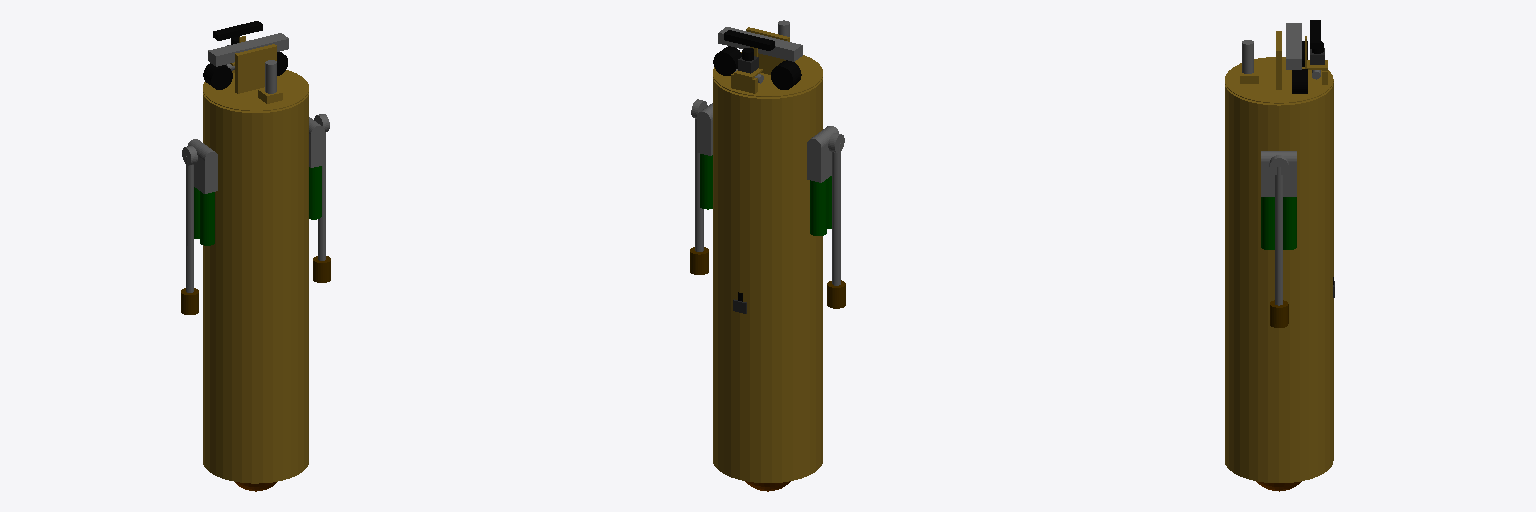
URDF robot description (ballbot):
<?xml version="1.0"?>
<robot name="ballbot">  

  <!-- Links -->

<!-- Point contact with the floor aligned with odom frame-->
  <link name="base_link" />      

<!-- Ball (center of sphere)-->
  <link name="ball_link">      
     <visual>
      <origin xyz="0 0 0" rpy="0 0 0" />
      <geometry>
        <sphere radius="0.105"/>
      </geometry>
      <material name="orange">
	<color rgba=".4 .2 0 .8"/>
      </material>
    </visual>
  </link>
  <joint name="base_to_ball" type="fixed">    
    <origin xyz="0 0 0.105" rpy="0 0 0" />
    <parent link="base_link" />
    <child link="ball_link" />
  </joint>


  <!-- ball to body: xAngle: + make X motion, then yAngle, then yaw -->
  <joint name="xAngle" type="revolute">    
    <axis xyz="0 1 0" />
    <limit effort="1000.0" lower="-0.5" upper="0.5" velocity="1"/>
    <origin xyz="0 0 0" rpy="0 0 0" />
    <parent link="ball_link" />
    <child link="xAngle_to_yAngle" />
  </joint>

  <link name="xAngle_to_yAngle"/>

  <joint name="yAngle" type="revolute">    
    <axis xyz="-1 0 0" />
    <limit effort="1000.0" lower="-0.5" upper="0.5" velocity="1"/>
    <origin xyz="0 0 0" rpy="0 0 0" />
    <parent link="xAngle_to_yAngle" />
    <child link="yAngle_to_bodyYaw" />
  </joint>

  <link name="yAngle_to_bodyYaw"/>

  <joint name="yaw" type="revolute">    
    <axis xyz="0 0 1" />
    <limit effort="1000.0" lower="-0.5" upper="0.5" velocity="1"/>
    <origin xyz="0 0 0" rpy="0 0 0" />
    <parent link="yAngle_to_bodyYaw" />
    <child link="body" />
  </joint>


<!-- Body (origin is at center of ball)-->
  <link name="body">      
     <visual>
      <origin xyz="0 0 .7025" rpy="0 0 0" />
      <geometry>
        <cylinder length="1.405" radius="0.184"/>
      </geometry>
      <material name="gold">
	<color rgba="0.5 0.4 .13 0.7"/>
      </material>
    </visual>
  </link>


  <!-- Top of the body -->
  <link name="body_top"/>
  <joint name="top_of_body" type="fixed">    
    <origin xyz="0 0 1.405" rpy="0 0 0" />
    <parent link="body" />
    <child link="body_top" />
  </joint>

<!-- Fake laser for AMCL/Gmapping (doesn't roll or pitch) -->
  <link name="base_laser"/>
  <joint name="base_laser_joint" type="fixed">    
    <origin xyz="0 .165 0.775" rpy="0 0 1.571" />
    <parent link="base_link" />
    <child link="base_laser" />
  </joint>

<!-- Body Laser (origin at optical center)-->
  <link name="laser">
    <visual> <!-- barrel -->
      <origin xyz="0 0 0" rpy="0 0 0"/>
      <geometry>
        <cylinder length=".03" radius="0.02"/>
      </geometry>
      <material name="grey">
	<color rgba="0.05 0.05 0.05 1"/>
      </material>
    </visual>
  </link>
  <joint name="real_laser_joint" type="fixed">    
    <origin xyz="0 .165 0.67" rpy="0 0 1.571" />
    <parent link="body" />
    <child link="laser" />
  </joint>
  <link name="laser_box">
    <visual> <!-- case -->
      <origin xyz="0 0 -.035" rpy="0 0 0"/>
      <geometry>
        <box size=".05 .05 .04"/>
      </geometry>
      <material name="light_grey">
	<color rgba="0.2 0.2 0.2 1"/>
      </material>
    </visual>
  </link>
  <joint name="laser_bottom" type="fixed">    
    <origin xyz="0 0 0" rpy="0 0 0" />
    <parent link="laser" />
    <child link="laser_box" />
  </joint>



<!-- TURRET -->

<!-- turret plate -->
  <link name="turret">
    <visual> <!-- main turret plate visual -->
      <origin xyz="0 0 -0.0015" rpy="0 0 0" />
      <geometry>
        <cylinder length="0.003" radius="0.184"/>
      </geometry>
      <material name="gold"/>
    </visual>
  </link>
  <joint name="turret_pan" type="revolute">    <!-- X axis of turret points forward (REP 103) -->
    <axis xyz="0 0 1" />
    <limit effort="1000.0" lower="-6.1" upper="6.1" velocity="1"/>
    <origin xyz="0 0 0.01" rpy="0 0 1.571" />
    <parent link="body_top" />
    <child link="turret" />
  </joint>
<!-- Turret Plate Visuals -->
  <link name="pan_motor_guard">
    <visual>
      <origin xyz="-0.10 0 .015" rpy="0 0 0" />
      <geometry>
        <box size=".065 .065 .03"/>
      </geometry>
      <material name="gold"/>
    </visual>
  </link>
  <joint name="turret_pmg" type="fixed">
    <parent link="turret" />
    <child link="pan_motor_guard" />
  </joint>
  <link name="pan_motor">
    <visual>
      <origin xyz="-0.105 0 .07" rpy="0 0 0" />
      <geometry>
        <cylinder length="0.14" radius="0.02"/>
      </geometry>
      <material name="silver">
	<color rgba=".4 .4 .4 1"/>
      </material>
    </visual>
  </link>
  <joint name="turret_pm" type="fixed">
    <parent link="turret" />
    <child link="pan_motor" />
  </joint>
  <link name="hook_box">
    <visual>
      <origin xyz="0 0 .0725" rpy="0 0 0" />
      <geometry>
        <box size=".02 .158 .145"/>
      </geometry>
      <material name="gold"/>
    </visual>
  </link>
  <joint name="turret_hb" type="fixed">
    <parent link="turret" />
    <child link="hook_box" />
  </joint>
  <link name="tilt_motor">
    <visual>
      <origin xyz=".125 0 .0381" rpy="1.571 0 0" />
      <geometry>
        <cylinder length="0.095" radius="0.015"/>
      </geometry>
      <material name="silver"/>
    </visual>
  </link>
  <joint name="turret_tm" type="fixed">
    <parent link="turret" />
    <child link="tilt_motor" />
  </joint>
  <link name="tilt_block">
    <visual>
      <origin xyz=".155 0 .025" rpy="0 0 0" />
      <geometry>
        <box size=".02 .09 .05"/>
      </geometry>
      <material name="gold"/>
    </visual>
  </link>
  <joint name="turret_tb" type="fixed">
    <parent link="turret" />
    <child link="tilt_block" />
  </joint>
<!-- Acoustic Magic -->
  <link name="array_mic">
    <visual>
      <origin xyz="0 0 0" rpy="0 0 0" />
      <geometry>
        <box size=".055 .29 .04"/>
      </geometry>
      <material name="silver"/>
    </visual>
  </link>
  <joint name="turret_mic" type="fixed">
    <origin xyz=".05 0 .125" rpy="0 0 0" />
    <parent link="turret" />
    <child link="array_mic" />
  </joint>
<!-- Right Eye Speaker -->
  <link name="right_speaker">
    <visual>
      <origin xyz="0 0 0" rpy="0 1.571 0" />
      <geometry>
        <cylinder length="0.055" radius="0.043"/>
      </geometry>
      <material name="grey"/>
    </visual>
  </link>
  <joint name="turret_right_speaker" type="fixed">
    <origin xyz=".07 -.11 .045" rpy="0 0 0" />
    <parent link="turret" />
    <child link="right_speaker" />
  </joint>
<!-- Left Eye Speaker -->
  <link name="left_speaker">
    <visual>
      <origin xyz="0 0 0" rpy="0 1.571 0" />
      <geometry>
        <cylinder length="0.055" radius="0.043"/>
      </geometry>
      <material name="grey"/>
    </visual>
  </link>
  <joint name="turret_left_speaker" type="fixed">
    <origin xyz=".07 .11 .045" rpy="0 0 0" />
    <parent link="turret" />
    <child link="left_speaker" />
  </joint>
<!-- fixed tilt (for interactive markers) -->
  <link name="fixed_tilt"/>
  <joint name="im_tilt_joint" type="fixed">
    <origin xyz=".155 0 0.0381" rpy="0 0 0" />
    <parent link="turret" />
    <child link="fixed_tilt" />
  </joint>
<!-- turret tilt -->
  <link name="tilt">
    <visual>
      <origin xyz="0 0 0.0025" rpy="0 0 0" />
      <geometry>
        <box size=".02 .07 .025"/>
      </geometry>
      <material name="gold"/>
    </visual>
  </link>
  <joint name="turret_tilt" type="revolute">
    <axis xyz="0 1 0" />
    <limit effort="1000.0" lower="-0.05" upper="1.571" velocity="1"/>
    <origin xyz=".155 0 0.0381" rpy="0 0 0" />
    <parent link="turret" />
    <child link="tilt" />
  </joint>
<!-- Tilt Plate -->
  <link name="tilt_plate">
    <visual>
      <origin xyz="-.025 0 0.018" rpy="0 0 0" />
      <geometry>
        <box size=".07 .07 .006"/>
      </geometry>
      <material name="gold"/>
    </visual>
  </link>
  <joint name="tilt_p" type="fixed">
    <origin xyz="0 0 0" rpy="0 0 0" />
    <parent link="tilt" />
    <child link="tilt_plate" />
  </joint>
<!-- Tilt Back Plate -->
  <link name="tilt_back_plate">
    <visual>
      <origin xyz="-.0632 0 0.06" rpy="0 0 0" />
      <geometry>
        <box size=".0064 .025 .12"/>
      </geometry>
      <material name="gold"/>
    </visual>
  </link>
  <joint name="tilt_b" type="fixed">
    <origin xyz="0 0 0" rpy="0 0 0" />
    <parent link="tilt" />
    <child link="tilt_back_plate" />
  </joint>
<!-- Asus Xtion -->
  <link name="openni_camera_link">
    <visual>
      <origin xyz="0 0 0" rpy="0 0 0" />
      <geometry>
        <box size=".036 .178 .023"/>
      </geometry>
      <material name="grey"/>
    </visual>
  </link>
  <joint name="xtion_joint" type="fixed">    
    <origin xyz="-.0324 0 .1295" rpy="0 0 0" />
    <parent link="tilt" />
    <child link="openni_camera_link"/>
  </joint>
  <!-- openni_camera  FRAME
  <link name="openni_depth_frame"/>
  <joint name="xtion_depth_joint" type="fixed">    
    <origin xyz="0 0 0" rpy="0 0 1.571" />
    <parent link="openni_rgb_optical_frame" />
    <child link="openni_depth_frame"/>
  </joint>
  -->
<!-- Tilt Laser (origin at beam)-->
  <link name="tilt_laser">
    <visual> <!-- barrel -->
      <origin xyz="0 0 0" rpy="0 0 0"/>
      <geometry>
        <cylinder length=".03" radius="0.02"/>
      </geometry>
      <material name="grey"/>
    </visual>
  </link>
  <joint name="tilt_laser_joint" type="fixed">    
    <origin xyz="-0.025 0 0.0824" rpy="0 0 0" />
    <parent link="tilt" />
    <child link="tilt_laser" />
  </joint>
  <link name="tilt_laser_box">
    <visual> <!-- case -->
      <origin xyz="0 0 -.035" rpy="0 0 0"/>
      <geometry>
        <box size=".05 .05 .04"/>
      </geometry>
      <material name="light_grey"/>
    </visual>
  </link>
  <joint name="tilt_laser_bottom" type="fixed">    
    <origin xyz="0 0 0" rpy="0 0 0" />
    <parent link="tilt_laser" />
    <child link="tilt_laser_box" />
  </joint>

<!-- Right Arm -->
  <link name="right_arm_base">
    <visual>
      <origin xyz="0 0 -0.06375" rpy="0 0 0"/>
      <geometry>
        <box size=".055 0.12 0.1275"/>
      </geometry>
      <material name="silver"/>
    </visual>
  </link>
  <joint name="right_arm_base_joint" type="fixed">    
    <origin xyz="0.2114 0 1.2195" rpy="0 0 0" />
    <parent link="body" />
    <child link="right_arm_base" />
  </joint>
  <link name="right_motor_1">
    <visual> 
      <origin xyz="0 0.0325 -.2275" rpy="0 0 0"/>
      <geometry>
        <cylinder length=".20" radius="0.0275"/>
      </geometry>
      <material name="dark_green">
	<color rgba="0 .3 0 1"/>
      </material>
    </visual>
  </link>
  <joint name="right_m1" type="fixed">    
    <origin xyz="0 0 0" rpy="0 0 0" />
    <parent link="right_arm_base" />
    <child link="right_motor_1" />
  </joint>
  <link name="right_motor_2">
    <visual> 
      <origin xyz="0 -0.0325 -.2275" rpy="0 0 0"/>
      <geometry>
        <cylinder length=".20" radius="0.0275"/>
      </geometry>
      <material name="dark_green"/>
    </visual>
  </link>
  <joint name="right_m2" type="fixed">    
    <origin xyz="0 0 0" rpy="0 0 0" />
    <parent link="right_arm_base" />
    <child link="right_motor_2" />
  </joint>
  <link name="right_shoulder">
    <visual>
      <origin xyz="0 0 0" rpy="1.571 0 0" />
      <geometry>
        <cylinder length=".12" radius="0.0275"/>
      </geometry>
      <material name="silver"/>
    </visual>
  </link>
  <joint name="right_arm_j1" type="revolute">
    <axis xyz="0 -1 0" />
    <limit effort="1000.0" lower="-0.05" upper="1.571" velocity="1"/>
    <origin xyz="0 0 0" rpy="0 0 0" />
    <parent link="right_arm_base" />
    <child link="right_shoulder" />
  </joint>
  <link name="right_shoulder2">
    <visual>
      <origin xyz="0 0 0" rpy="0 1.571 0" />
      <geometry>
        <cylinder length=".0254" radius="0.0325"/>
      </geometry>
      <material name="silver"/>
    </visual>
  </link>
  <joint name="right_arm_j2" type="revolute">
    <axis xyz="1 0 0" />
    <limit effort="1000.0" lower="-3.14" upper="3.14" velocity="1"/>
    <origin xyz="0.0508 0 0" rpy="0 0 0" />
    <parent link="right_shoulder" />
    <child link="right_shoulder2" />
  </joint>
 <link name="right_arm">
    <visual>
      <origin xyz="-.2575 0 0" rpy="0 -1.571 0" />
      <geometry>
        <cylinder length=".515" radius="0.014"/>
      </geometry>
      <material name="silver"/>
    </visual>
  </link>
  <joint name="right_arm_j3" type="fixed">
    <origin xyz="0 0 -0.515" rpy="0 1.571 1.571" />
    <parent link="right_shoulder2" />
    <child link="right_arm" />
  </joint>

<!-- Left Arm -->
  <link name="left_arm_base">
    <visual>
      <origin xyz="0 0 -0.06375" rpy="0 0 0"/>
      <geometry>
        <box size=".055 0.12 0.1275"/>
      </geometry>
      <material name="silver"/>
    </visual>
  </link>
  <joint name="left_arm_base_joint" type="fixed">    
    <origin xyz="-0.2114 0 1.2195" rpy="0 0 3.14159" />
    <parent link="body" />
    <child link="left_arm_base" />
  </joint>
  <link name="left_motor_1">
    <visual> 
      <origin xyz="0 0.0325 -.2275" rpy="0 0 0"/>
      <geometry>
        <cylinder length=".20" radius="0.0275"/>
      </geometry>
      <material name="dark_green">
	<color rgba="0 .3 0 1"/>
      </material>
    </visual>
  </link>
  <joint name="left_m1" type="fixed">    
    <origin xyz="0 0 0" rpy="0 0 0" />
    <parent link="left_arm_base" />
    <child link="left_motor_1" />
  </joint>
  <link name="left_motor_2">
    <visual> 
      <origin xyz="0 -0.0325 -.2275" rpy="0 0 0"/>
      <geometry>
        <cylinder length=".20" radius="0.0275"/>
      </geometry>
      <material name="dark_green"/>
    </visual>
  </link>
  <joint name="left_m2" type="fixed">    
    <origin xyz="0 0 0" rpy="0 0 0" />
    <parent link="left_arm_base" />
    <child link="left_motor_2" />
  </joint>
  <link name="left_shoulder">
    <visual>
      <origin xyz="0 0 0" rpy="1.571 0 0" />
      <geometry>
        <cylinder length=".12" radius="0.0275"/>
      </geometry>
      <material name="silver"/>
    </visual>
  </link>
  <joint name="left_arm_j1" type="revolute">
    <axis xyz="0 -1 0" />
    <limit effort="1000.0" lower="-0.05" upper="1.571" velocity="1"/>
    <origin xyz="0 0 0" rpy="0 0 0" />
    <parent link="left_arm_base" />
    <child link="left_shoulder" />
  </joint>
  <link name="left_shoulder2">
    <visual>
      <origin xyz="0 0 0" rpy="0 1.571 0" />
      <geometry>
        <cylinder length=".0254" radius="0.0325"/>
      </geometry>
      <material name="silver"/>
    </visual>
  </link>
  <joint name="left_arm_j2" type="revolute">
    <axis xyz="1 0 0" />
    <limit effort="1000.0" lower="-3.14" upper="3.14" velocity="1"/>
    <origin xyz="0.0508 0 0" rpy="0 0 0" />
    <parent link="left_shoulder" />
    <child link="left_shoulder2" />
  </joint>
 <link name="left_arm">
    <visual>
      <origin xyz="-.2575 0 0" rpy="0 -1.571 0" />
      <geometry>
        <cylinder length=".515" radius="0.014"/>
      </geometry>
      <material name="silver"/>
    </visual>
  </link>
  <joint name="left_arm_j3" type="fixed">
    <origin xyz="0 0 -0.515" rpy="3.14 1.571 1.571" />
    <parent link="left_shoulder2" />
    <child link="left_arm" />
  </joint>
 <link name="left_weight">
    <visual>
      <origin xyz="-.0381 0 0" rpy="0 1.571 0" />
      <geometry>
        <cylinder length=".0762" radius="0.03175"/>
      </geometry>
      <material name="brass">
	<color rgba=".3 .2 0 .8"/>
      </material>
    </visual>
  </link>
  <joint name="left_weight_joint" type="fixed">
    <origin xyz="0.0762 0 0" rpy="0 0 0" />
    <parent link="left_arm" />
    <child link="left_weight" />
  </joint>
 <link name="right_weight">
    <visual>
      <origin xyz="-.0381 0 0" rpy="0 1.571 0" />
      <geometry>
        <cylinder length=".0762" radius="0.03175"/>
      </geometry>
      <material name="brass"/>
    </visual>
  </link>
  <joint name="right_weight_joint" type="fixed">
    <origin xyz="0.0762 0 0" rpy="0 0 0" />
    <parent link="right_arm" />
    <child link="right_weight" />
  </joint>

</robot>

--- Facts derived from the render (not from the file) ---
3 views of the same robot in one strip: view 1: azimuth 30°, elevation 25°; view 2: azimuth 150°, elevation 25°; view 3: azimuth 270°, elevation 25° (orthographic).
Model ballbot with 39 links and 38 joints (9 revolute, 29 fixed), rooted at base_link, posed every joint at zero.
Links seen in each view (by area): view 1: body, turret, hook_box, array_mic, left_arm, left_motor_1, left_arm_base, right_motor_2, left_speaker, right_arm, right_arm_base, openni_camera_link; view 2: body, turret, left_arm, array_mic, left_motor_2, left_arm_base, right_arm, right_motor_1, left_speaker, right_speaker, openni_camera_link, hook_box; view 3: body, turret, right_arm, right_arm_base, array_mic, right_motor_1, right_motor_2.
Link boxes in pixels (x1,y1,x2,y2): body: (203,93,308,483); turret: (203,70,308,110); hook_box: (235,44,276,93); array_mic: (208,33,288,66); left_arm: (186,156,193,292); left_motor_1: (200,191,214,245); left_arm_base: (194,156,217,193); right_motor_2: (309,166,321,219); left_speaker: (203,63,232,89); right_arm: (318,132,325,260); right_arm_base: (309,131,324,167); openni_camera_link: (213,21,262,40); body: (713,78,822,482); turret: (713,52,822,96); left_arm: (832,143,840,285); array_mic: (718,27,802,61); left_motor_2: (810,179,826,235); left_arm_base: (807,144,831,182); right_arm: (695,119,703,251); right_motor_1: (700,154,712,209); left_speaker: (771,60,801,89); right_speaker: (713,46,741,75); openni_camera_link: (724,30,774,50); hook_box: (746,27,789,74); body: (1225,82,1333,482); turret: (1225,57,1333,103); right_arm: (1275,167,1282,305); right_arm_base: (1261,162,1296,196); array_mic: (1286,23,1301,69); right_motor_1: (1283,197,1296,249); right_motor_2: (1261,197,1274,249).
Size in the robot's own frame: 0.5879 by 0.374 by 1.7 metres.
Geometry: primitives only (box / cylinder / sphere), no mesh files.